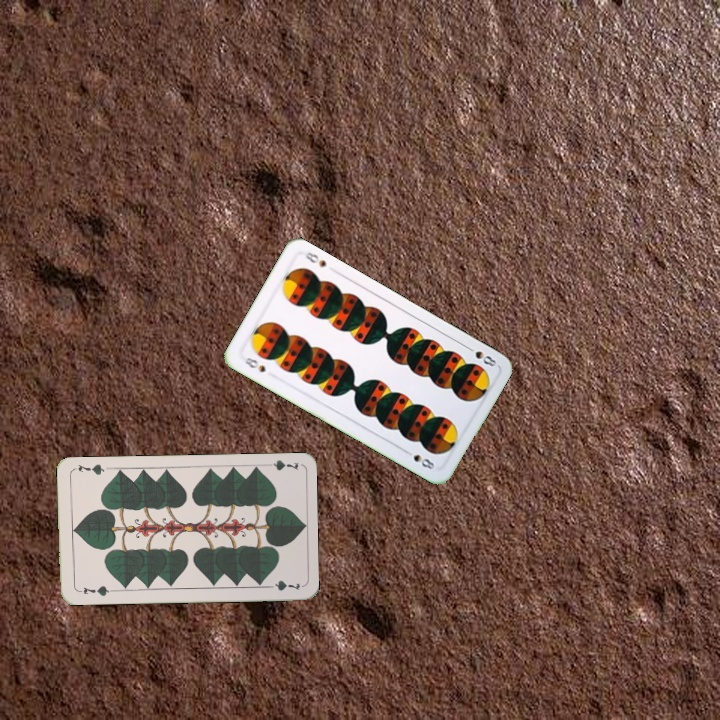G7: (260, 456, 300, 473), (79, 582, 114, 599)
S8: (462, 342, 499, 369), (240, 353, 268, 375)
